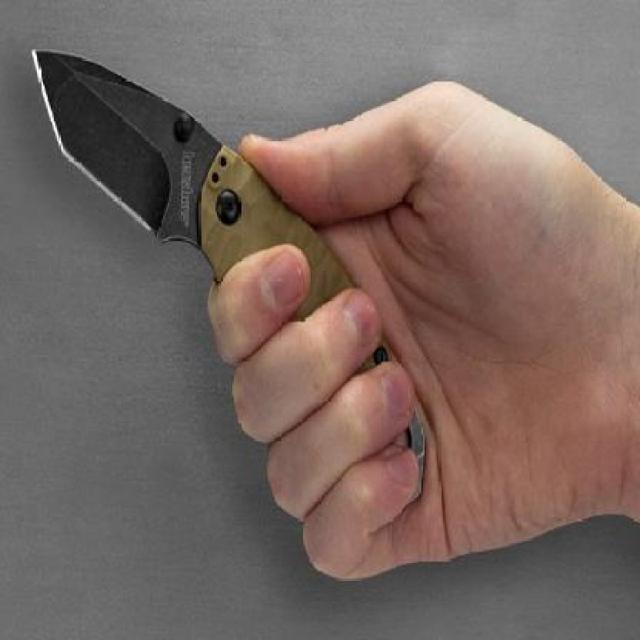weapon: (23, 45, 443, 526)
